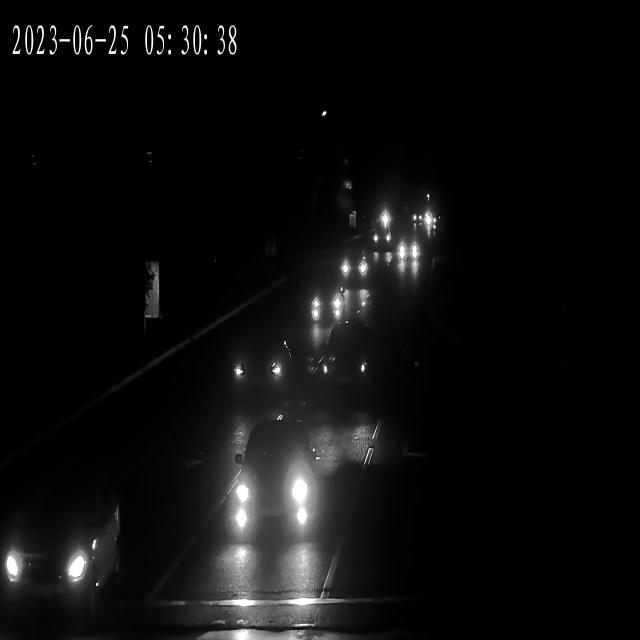Car: (2, 467, 128, 616), (234, 431, 316, 541), (228, 328, 292, 403), (317, 327, 375, 392), (308, 277, 346, 327), (338, 243, 371, 284), (395, 240, 423, 270), (371, 224, 397, 249), (378, 202, 396, 230), (412, 200, 423, 228), (424, 214, 436, 239)
